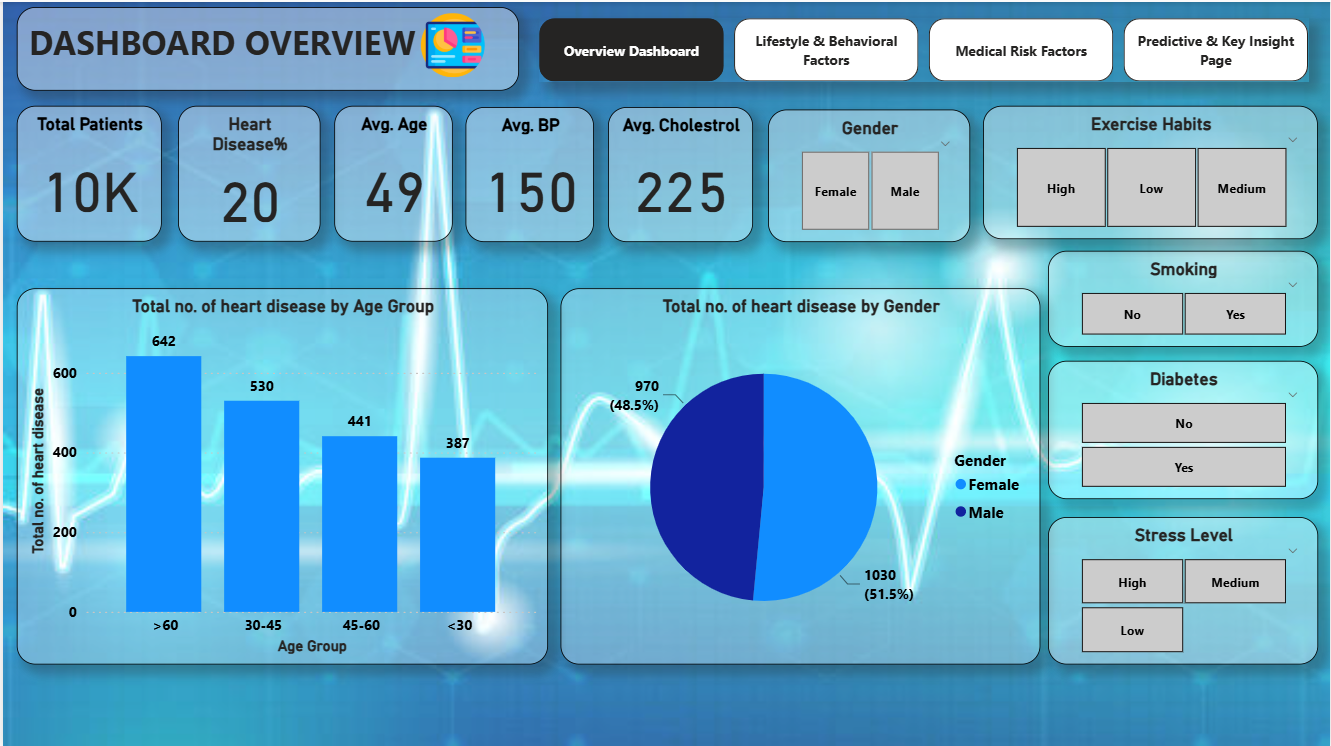

The page's visual inventory and layout, read from the dashboard file:
{"tool":"powerbi","page":{"name":"Overview Dashboard","canvas":[1280,720],"ordinal":1},"visuals":[{"type":"card","title":"Total Patients","fields":{"Values":["heart_disease.Total Patients"]},"box":[13.3,100.1,139.9,131.5],"z":0},{"type":"card","title":"Avg. Age","fields":{"Values":["heart_disease.Avg. Age"]},"box":[319.7,100.1,114.6,131.5],"z":1000},{"type":"card","title":"Avg. BP","fields":{"Values":["heart_disease.Avg. BP"]},"box":[446.4,101.3,124.3,130.3],"z":2000},{"type":"card","title":"Avg. Cholestrol","fields":{"Values":["heart_disease.Avg. Cholesterol"]},"box":[583.9,101.3,139.9,130.3],"z":3000},{"type":"card","title":"Heart Disease%","fields":{"Values":["heart_disease.Heart Disease%"]},"box":[168.9,100.1,137.5,131.5],"z":4000},{"type":"pieChart","fields":{"Category":["heart_disease.Gender"],"Y":["heart_disease.Total no. of heart disease"]},"box":[538.1,276.3,463.3,363.1],"z":5000},{"type":"clusteredColumnChart","fields":{"Category":["heart_disease.Age Group"],"Y":["heart_disease.Total no. of heart disease"]},"box":[13.3,276.3,512.7,363.1],"z":6000},{"type":"slicer","title":"Gender","fields":{"Values":["heart_disease.Gender"]},"box":[738.3,103.8,195.4,127.9],"z":7000},{"type":"slicer","title":"Smoking","fields":{"Values":["heart_disease.Smoking"]},"box":[1008.6,240.1,260.6,92.9],"z":8000},{"type":"slicer","title":"Exercise Habits","fields":{"Values":["heart_disease.Exercise Habits"]},"box":[945.8,100.1,323.3,129.1],"z":9000},{"type":"slicer","title":"Diabetes","fields":{"Values":["heart_disease.Diabetes"]},"box":[1008.6,346.2,260.6,133.9],"z":10000},{"type":"slicer","title":"Stress Level","fields":{"Values":["heart_disease.Stress Level"]},"box":[1008.6,497.1,260.6,142.4],"z":11000},{"type":"textbox","box":[13.3,4.8,485,80.8],"z":12000},{"type":"pageNavigator","box":[517.6,15.7,743.2,61.5],"z":13000},{"type":"image","box":[396.9,6,74.8,71.2],"z":14000}]}

Visuals, with their boxes in screenshot pixels (x1, y1, x2, y2), scaled from the page's 1280x720 canvas onto the 1331x746 screenshot:
"Total Patients" card: 14 104 159 240
"Avg. Age" card: 332 104 452 240
"Avg. BP" card: 464 105 593 240
"Avg. Cholestrol" card: 607 105 753 240
"Heart Disease%" card: 176 104 319 240
pieChart - heart_disease.Gender x heart_disease.Total no. of heart disease: 560 286 1041 662
clusteredColumnChart - heart_disease.Age Group x heart_disease.Total no. of heart disease: 14 286 547 662
"Gender" slicer: 768 108 971 240
"Smoking" slicer: 1049 249 1320 345
"Exercise Habits" slicer: 983 104 1320 237
"Diabetes" slicer: 1049 359 1320 497
"Stress Level" slicer: 1049 515 1320 663
textbox: 14 5 518 89
pageNavigator: 538 16 1311 80
image: 413 6 490 80
